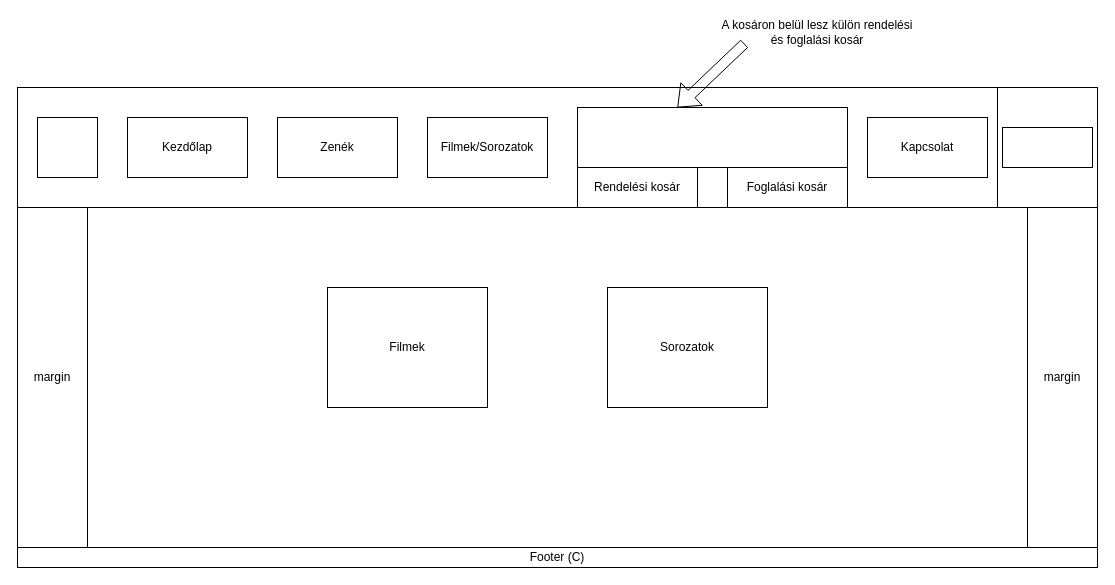
The diagram is 1115 pixels wide and 585 high, and some of its shapes have lost their labels. The shapes that lost their labels are listed below. From the top down, each one's centre as x and y in pixels, then its label:
(x=67, y=147): Logo
(x=712, y=137): Kosár
(x=1047, y=147): Fiók bej/reg
